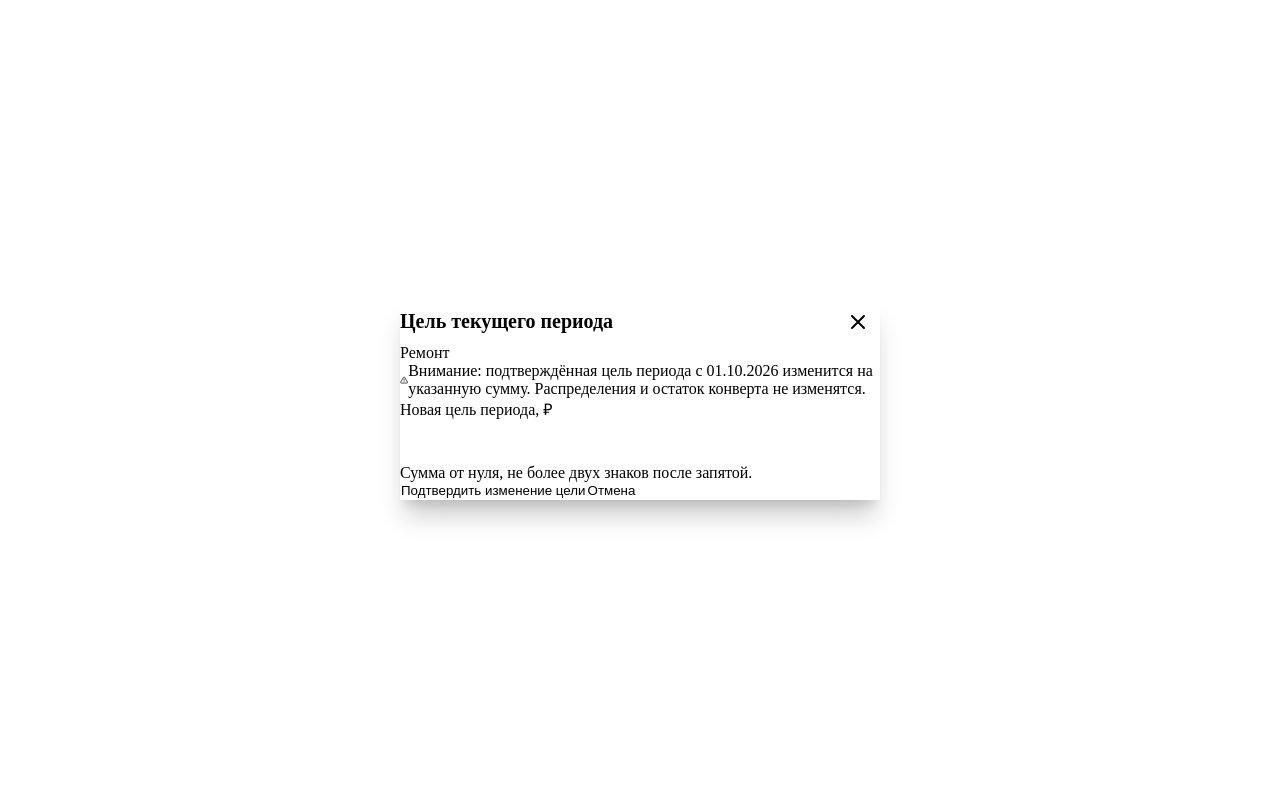
it: PeriodTargetDialog › server errors › shows a Russian form error without the raw detail
This screenshot has width=1280, height=800.
Type "100" into the field with test id "target-input" at (640, 442), box [400,420,880,464]
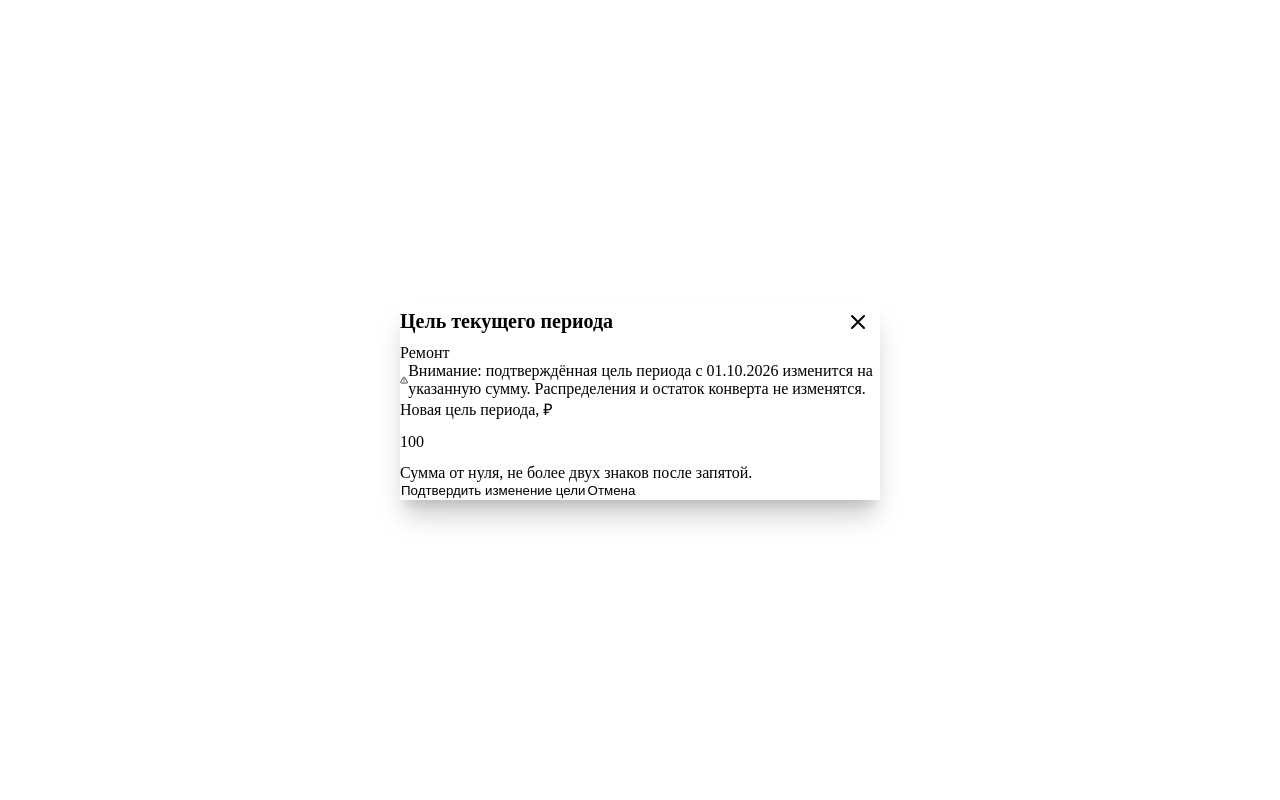
Click the button with test id "target-confirm" at (493, 491), box [400,482,586,500]
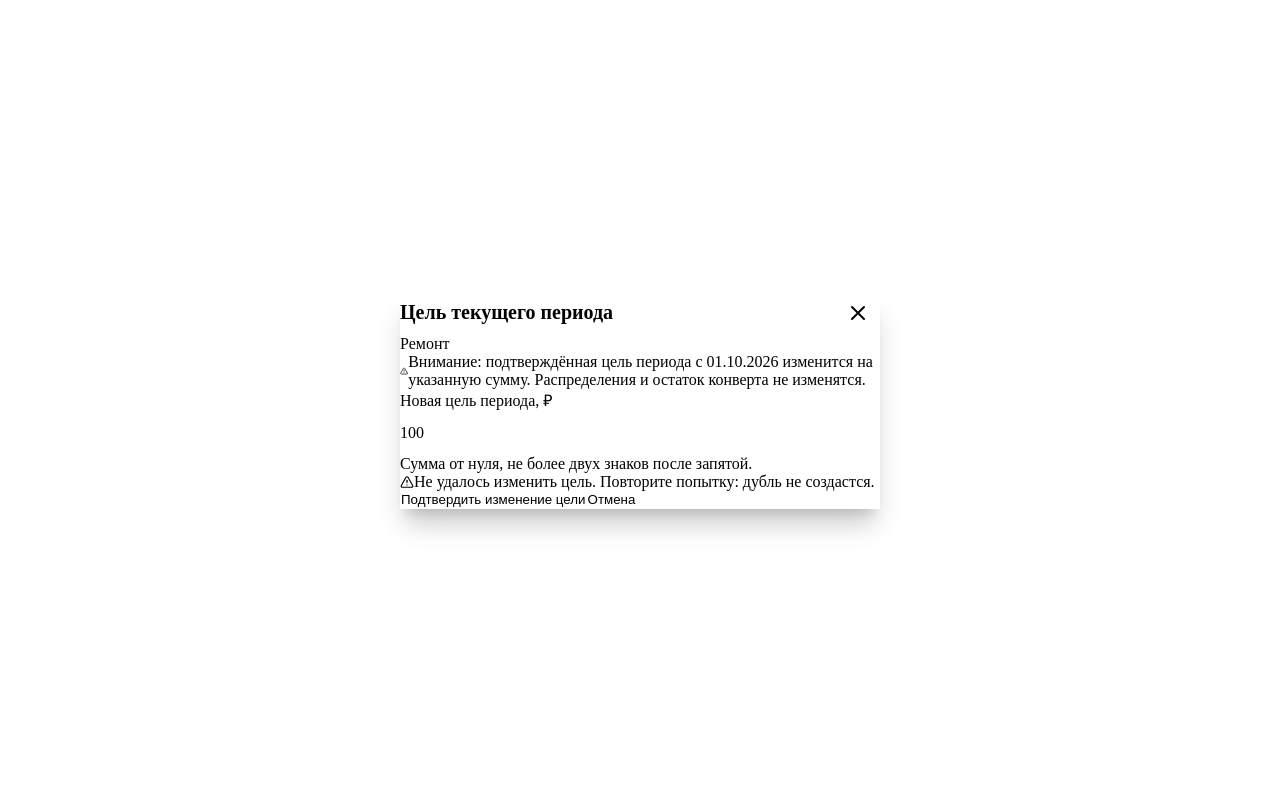
Now the message with test id "target-form-error" reads "Не удалось изменить цель. Повторите попытку: дубль не создастся.", box [414,473,875,490]
